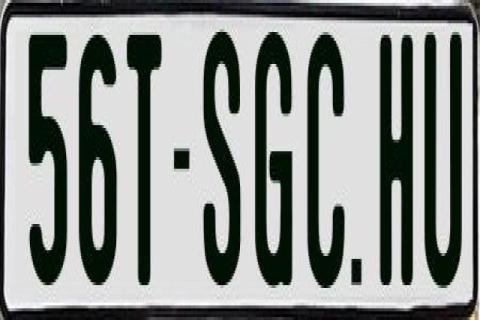0: (76, 27, 118, 280), (28, 29, 66, 294)
C: (304, 32, 346, 300)
G: (254, 29, 298, 303)
H: (379, 32, 417, 300)
S: (204, 23, 245, 280)
T: (126, 29, 166, 294)
U: (424, 23, 465, 297)
